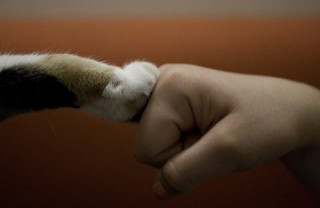fist: (143, 51, 299, 191)
